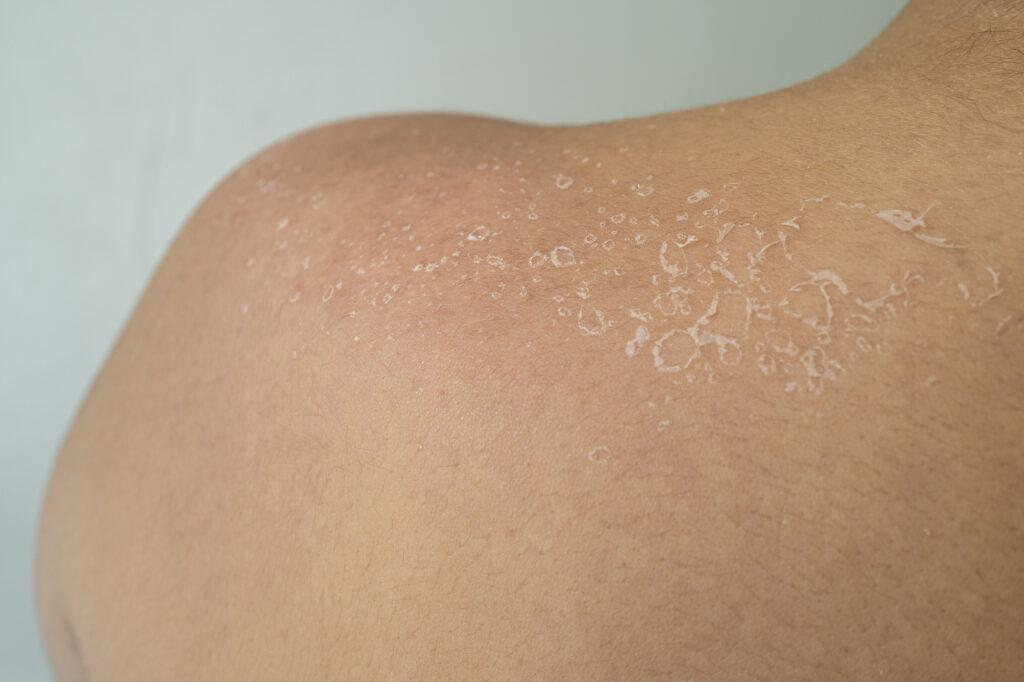Dry-Skin: (266, 142, 1013, 406)
